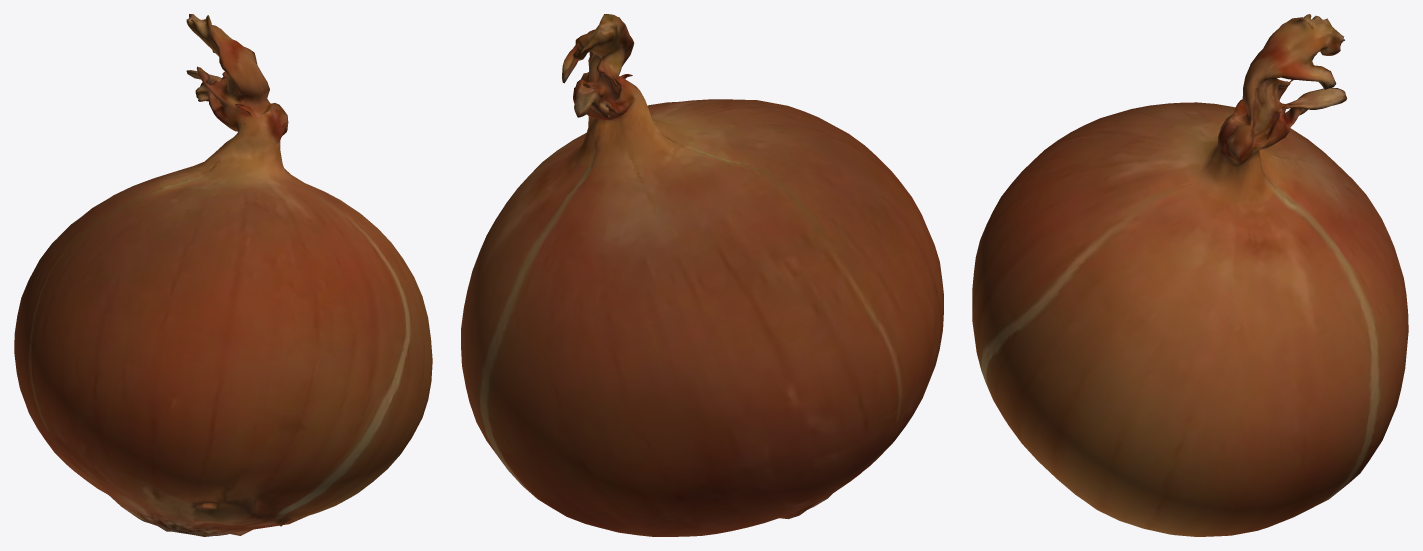
Rendered from yellow_onion.glb.
3 renders of one model, left to right at view 1: azimuth 30°, elevation 25°; view 2: azimuth 150°, elevation 25°; view 3: azimuth 270°, elevation 25°, orthographic. The views are drawn at different scales.
Visible parts, largest first — view 1: yellow_onion; view 2: yellow_onion; view 3: yellow_onion.
Part boxes in pixels (<box>): yellow_onion: <box>14,14,432,536</box>; yellow_onion: <box>461,14,943,536</box>; yellow_onion: <box>972,14,1408,536</box>.
Bounding box in the file's own units: 0.0725 × 0.0864 × 0.0686.
Materials: 1 (1 with a texture image).
